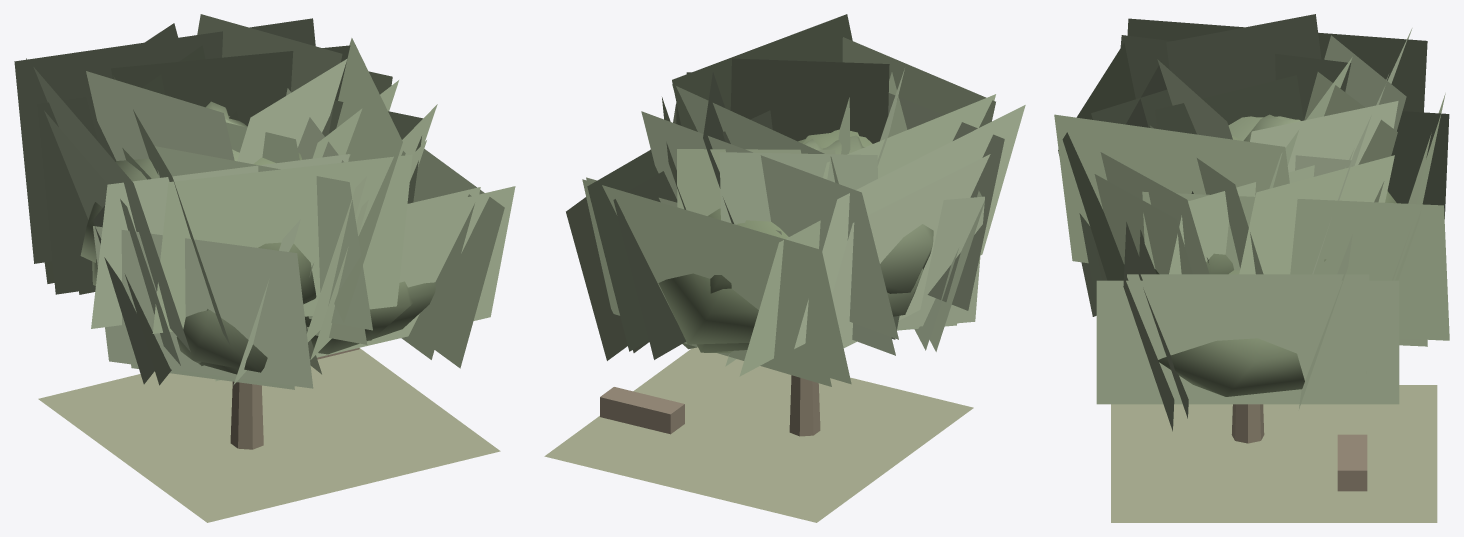
The picture shows the model from 3 angles, left to right: view 1: azimuth 30°, elevation 25°; view 2: azimuth 150°, elevation 25°; view 3: azimuth 270°, elevation 25°; orthographic projection. The views are drawn at different scales.
Parts seen in each view (by area): view 1: Near, Mid, Far; view 2: Near, Mid, Far; view 3: Near, Mid.
Part boxes in pixels (box(x1,y1,x2,y2)): Near: box(37, 14, 500, 522); Mid: box(14, 18, 515, 388); Far: box(206, 281, 413, 340); Near: box(544, 14, 1004, 522); Mid: box(566, 72, 1025, 384); Far: box(708, 208, 788, 293); Near: box(1054, 14, 1449, 522); Mid: box(1058, 18, 1449, 431).
Size of the model in its own units: 1.3 by 1.23 by 1.21.
